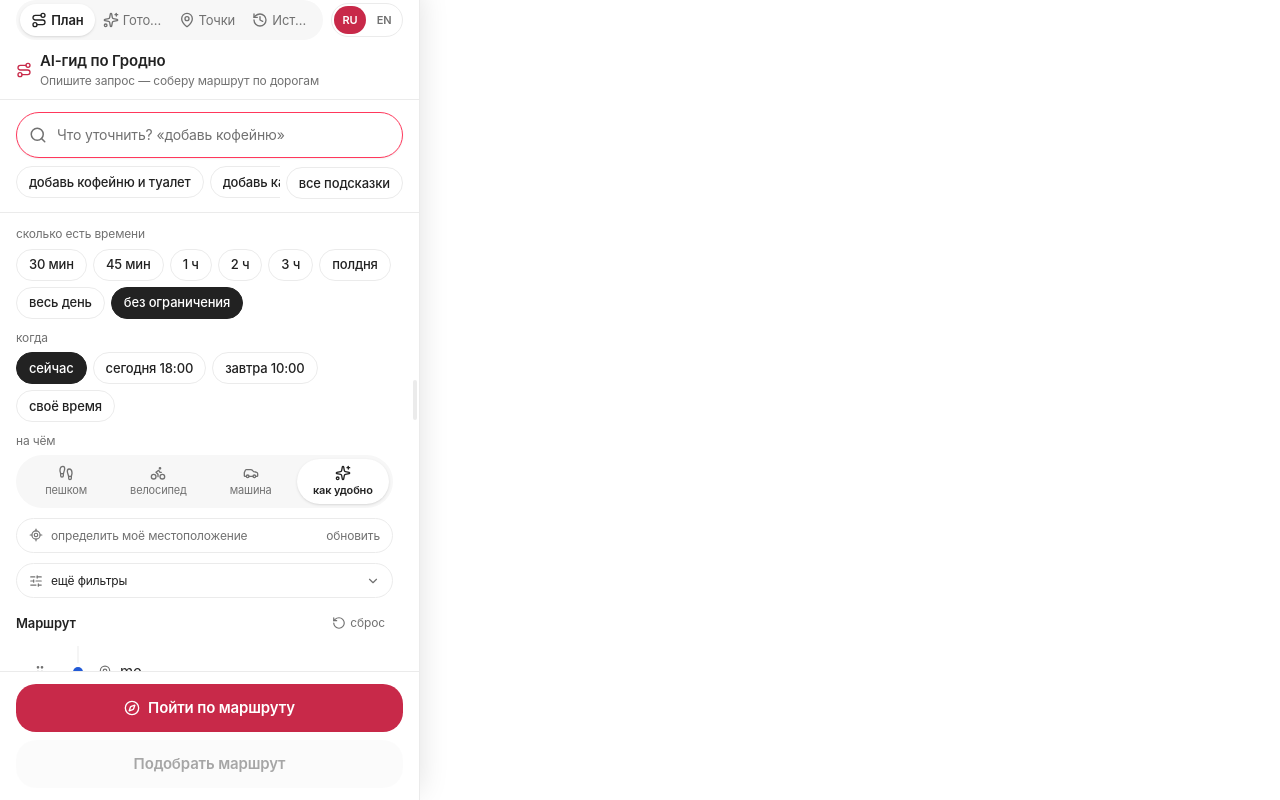
Sidebar › has no guide tab: the guide opens from one explicit action on a route
Expected: the radio button with test id "mode-plan" is shown, [20, 4, 95, 36]
Expected: the radio button with test id "mode-history" is shown, [244, 4, 319, 36]
Click the button with test id "guide-enter": [210, 708] box [16, 684, 403, 732]
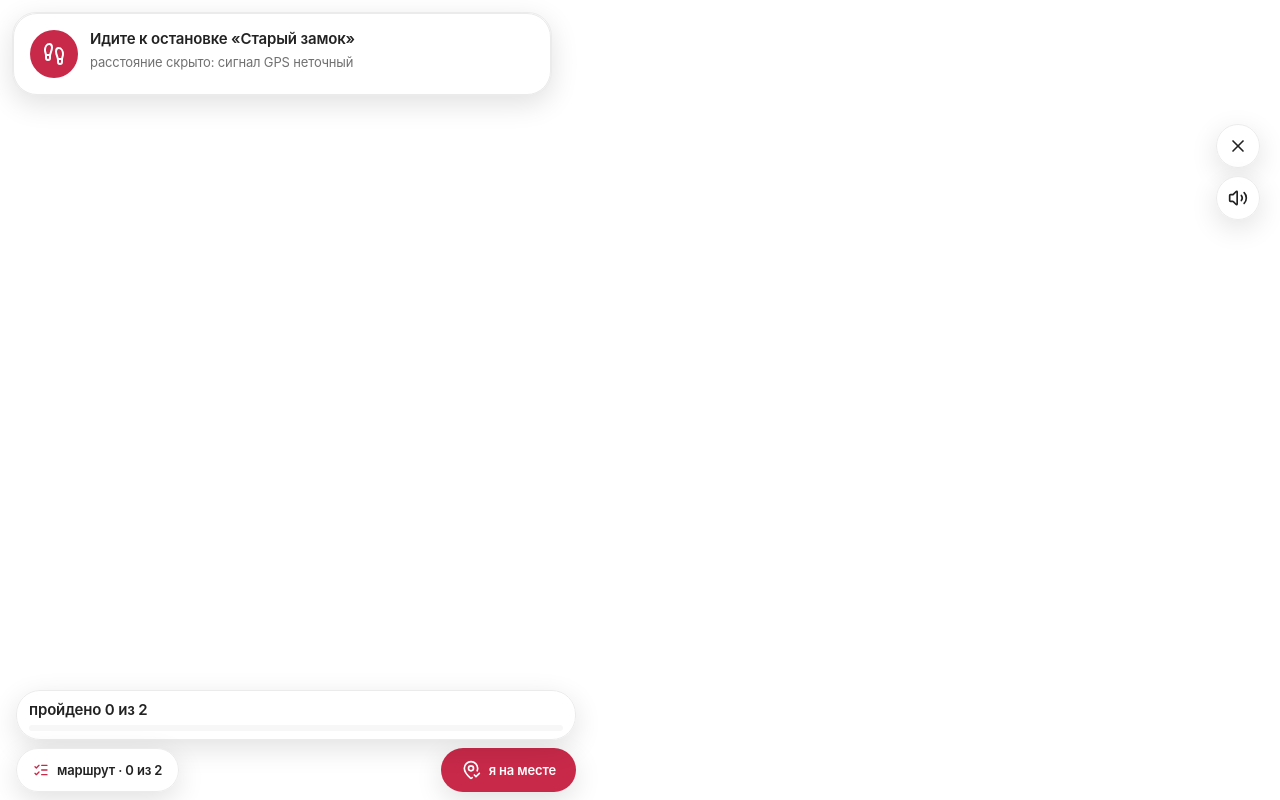
Now the element with test id "guide-panel" is shown
Now the radio button with test id "mode-plan" is gone
Now the radio button with test id "mode-history" is gone
Click the button with test id "guide-exit-hud": [1238, 146] box [1216, 124, 1260, 168]
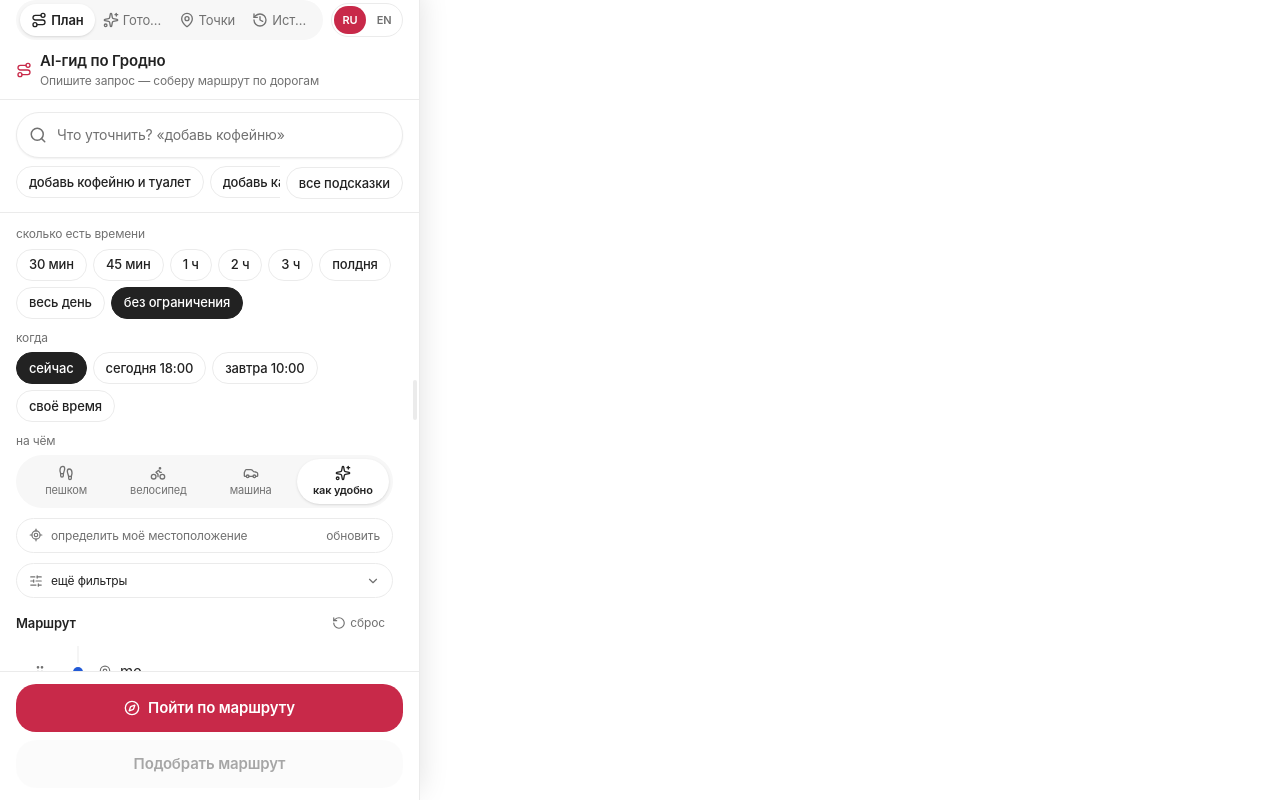
Now the element with test id "guide-panel" is gone
Now the radio button with test id "mode-plan" is shown, box [20, 4, 95, 36]
Now the button "Подобрать маршрут" is shown, box [16, 740, 403, 788]
